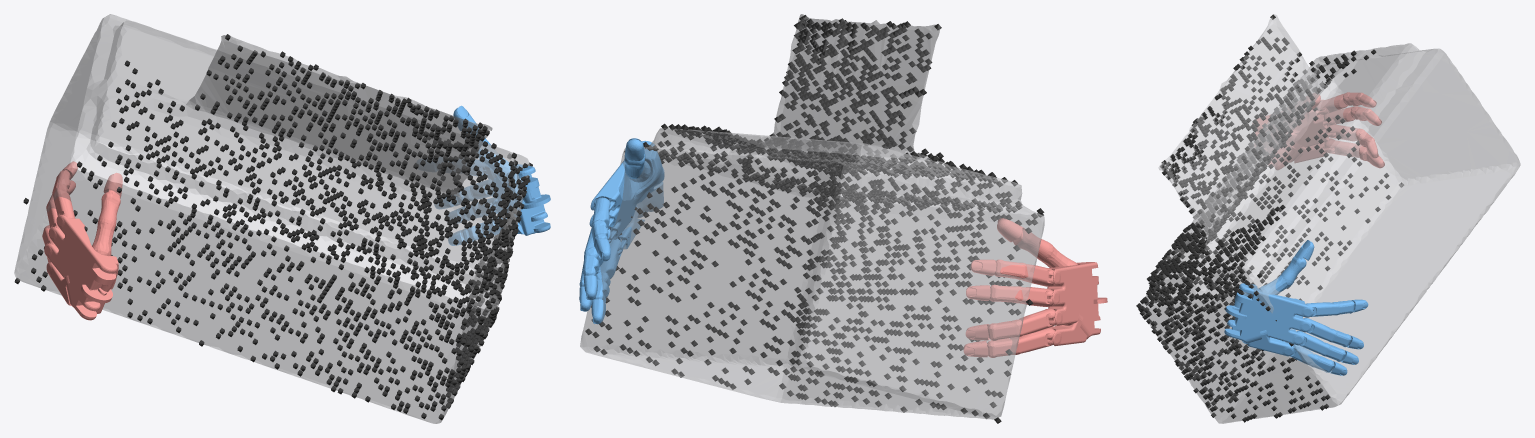
3 renders of one model, left to right at view 1: azimuth 30°, elevation 25°; view 2: azimuth 150°, elevation 25°; view 3: azimuth 270°, elevation 25°, orthographic. The views are drawn at different scales.
Visible parts, largest first — view 1: object_mesh_visualization_only, object_pointcloud, left_shadow_hand, right_shadow_hand; view 2: object_mesh_visualization_only, object_pointcloud, left_shadow_hand, right_shadow_hand; view 3: object_mesh_visualization_only, object_pointcloud, right_shadow_hand, left_shadow_hand.
Boxes of the visible parts, x1=… form: object_mesh_visualization_only: x1=14, y1=14, x2=529, y2=423; object_pointcloud: x1=14, y1=34, x2=532, y2=420; left_shadow_hand: x1=42, y1=161, x2=122, y2=320; right_shadow_hand: x1=434, y1=105, x2=550, y2=245; object_mesh_visualization_only: x1=580, y1=14, x2=1044, y2=419; object_pointcloud: x1=585, y1=15, x2=1044, y2=423; left_shadow_hand: x1=963, y1=218, x2=1107, y2=357; right_shadow_hand: x1=579, y1=138, x2=664, y2=324; object_mesh_visualization_only: x1=1140, y1=14, x2=1520, y2=423; object_pointcloud: x1=1136, y1=14, x2=1403, y2=422; right_shadow_hand: x1=1224, y1=240, x2=1368, y2=375; left_shadow_hand: x1=1252, y1=92, x2=1384, y2=169.
Bounding box in the file's own units: 0.6197 × 0.541 × 0.5589.
